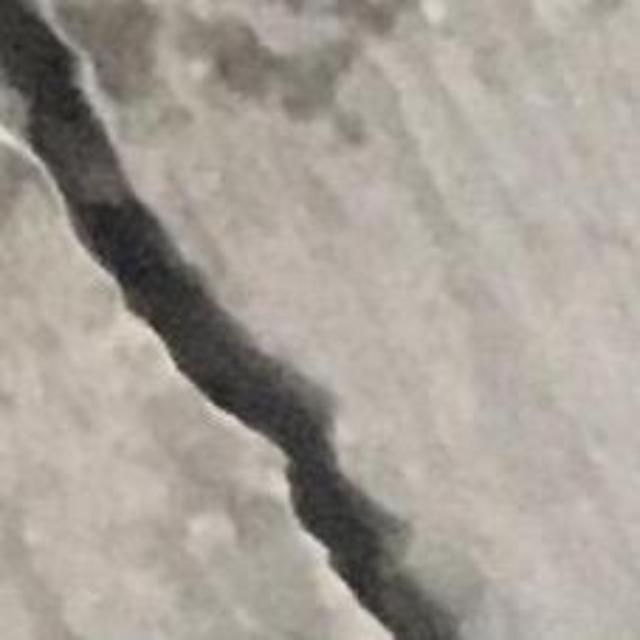crack: (0, 0, 459, 639)
